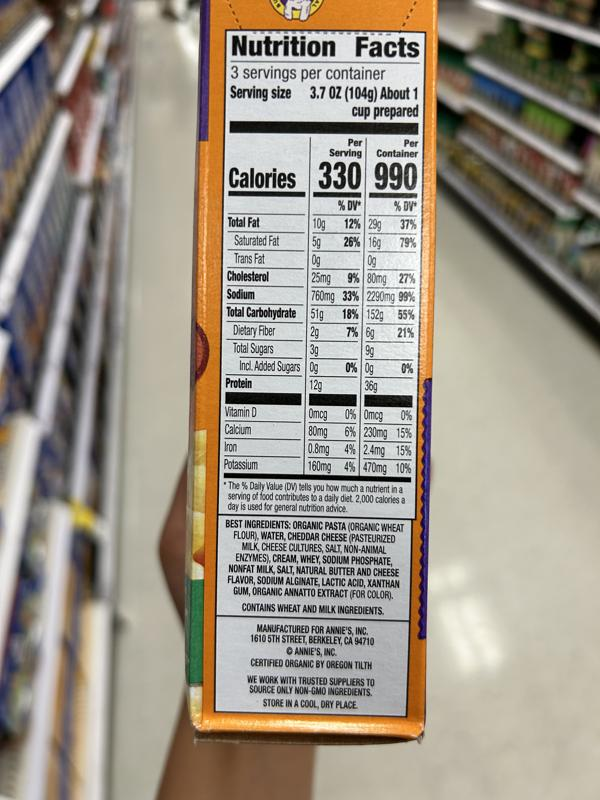ingredients: (224, 518, 407, 602)
